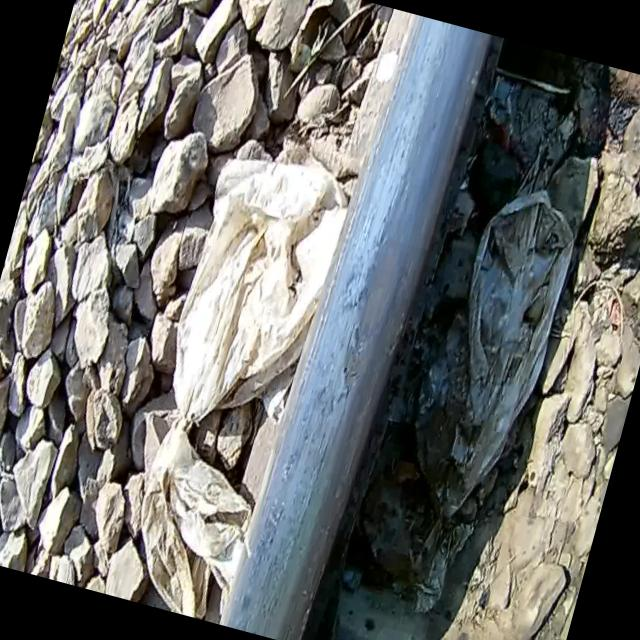Squats: (202, 2, 514, 640)
